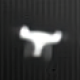plane: (16, 23, 69, 63)
